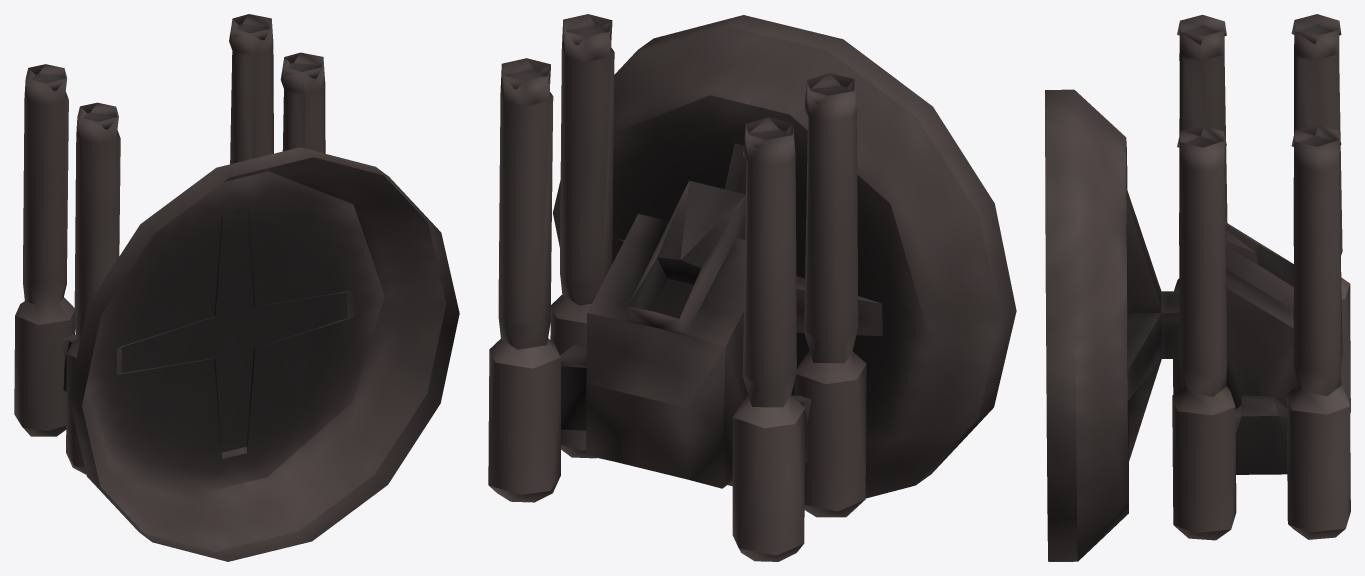
File: destroyer_weapon_01.fbx
3 renders of one model, left to right at view 1: azimuth 30°, elevation 25°; view 2: azimuth 150°, elevation 25°; view 3: azimuth 270°, elevation 25°, orthographic. The views are drawn at different scales.
Parts seen in each view (by area): view 1: pCube166.001; view 2: pCube166.001; view 3: pCube166.001.
Part boxes in pixels (x1,y1,x2,y2): pCube166.001: (14,14,459,561); pCube166.001: (488,14,1016,561); pCube166.001: (1045,14,1350,561).
Size of the model in its own units: 1274 by 807 by 1336.
Materials: 1 (1 with a texture image).
